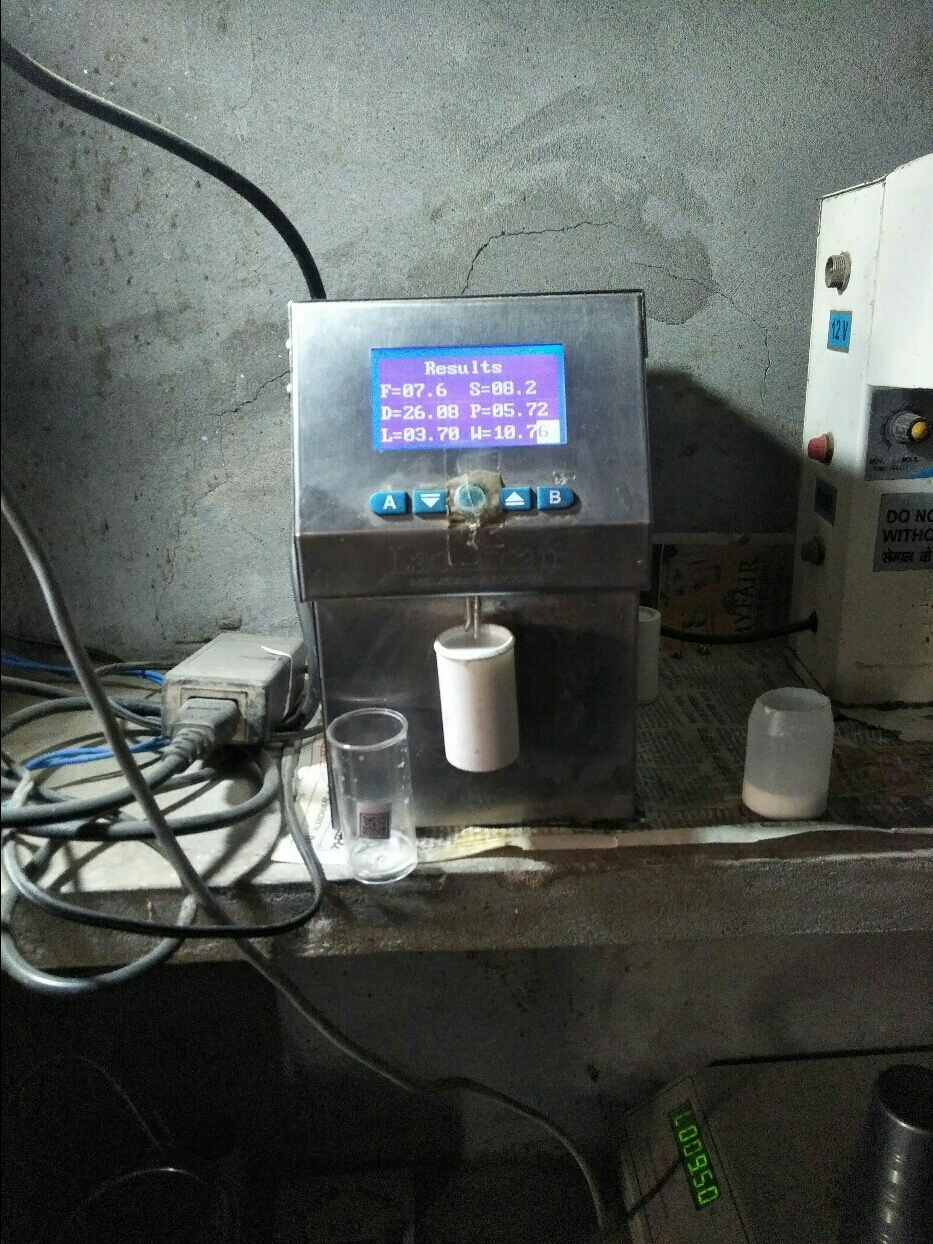lcd: (367, 344, 582, 452)
qr: (356, 805, 399, 844)
